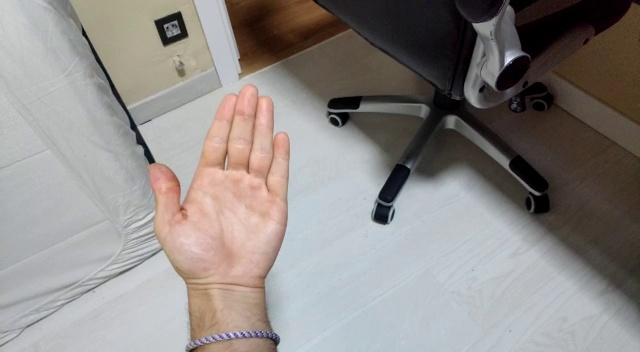Palm: (147, 84, 300, 291)
